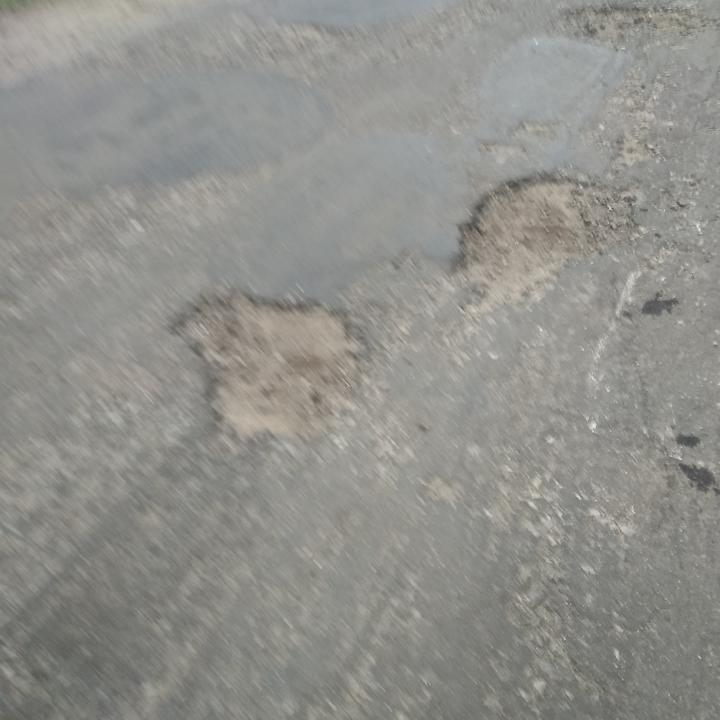pothole: (160, 282, 379, 449), (445, 169, 622, 320), (552, 0, 705, 47)
